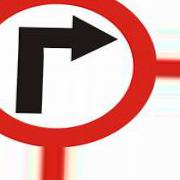right: (1, 1, 157, 143)
